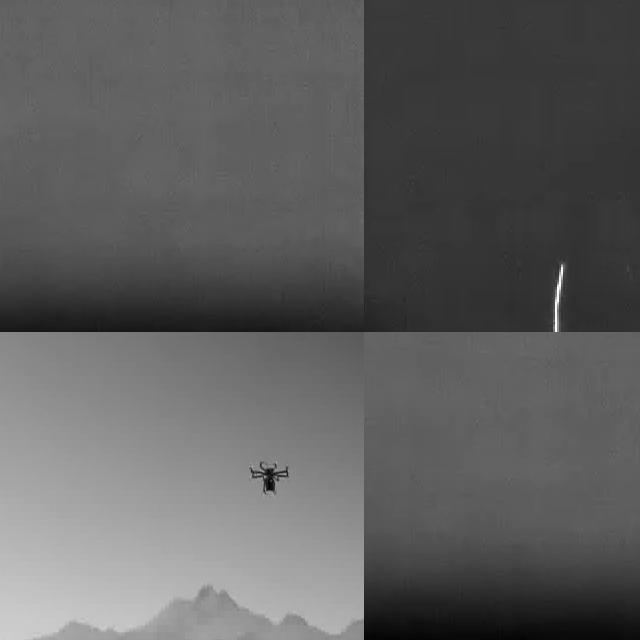0: (616, 267, 640, 297)
drone: (250, 456, 288, 501)
